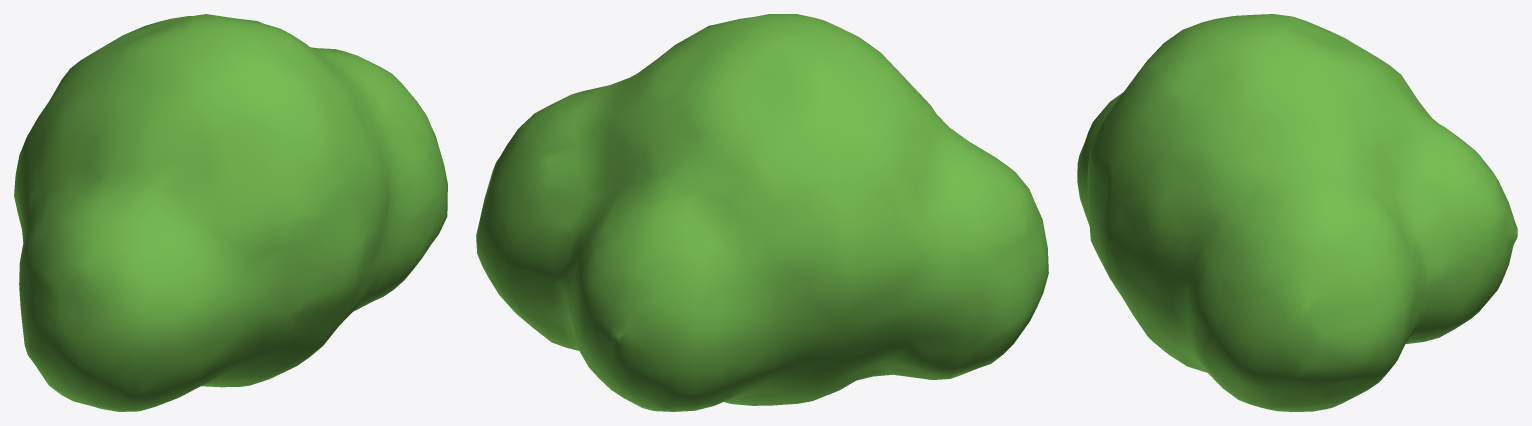
The model's file is bush.glb.
The picture shows the model from 3 angles, left to right: view 1: azimuth 30°, elevation 25°; view 2: azimuth 150°, elevation 25°; view 3: azimuth 270°, elevation 25°; orthographic projection. The views are drawn at different scales.
Visible parts, largest first — view 1: BushMesh; view 2: BushMesh; view 3: BushMesh.
Part boxes in pixels (bbox=[...]): BushMesh: bbox=[14, 14, 447, 411]; BushMesh: bbox=[476, 14, 1048, 411]; BushMesh: bbox=[1077, 14, 1517, 411].
Size of the model in its own units: 1.33 by 0.9769 by 1.14.
